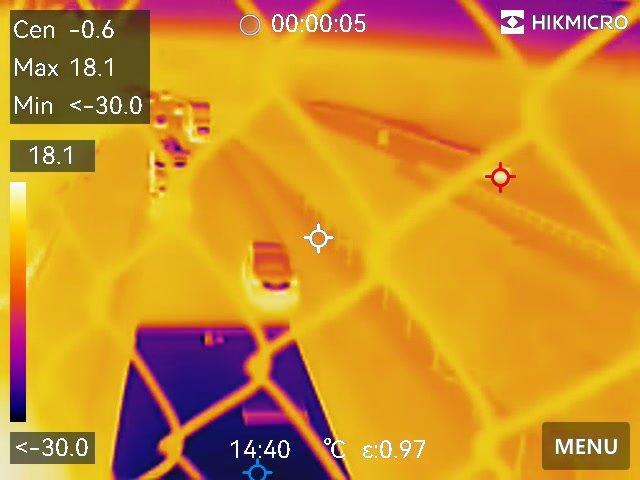heavyTruck: (183, 97, 213, 143)
smallCar: (244, 237, 300, 311)
